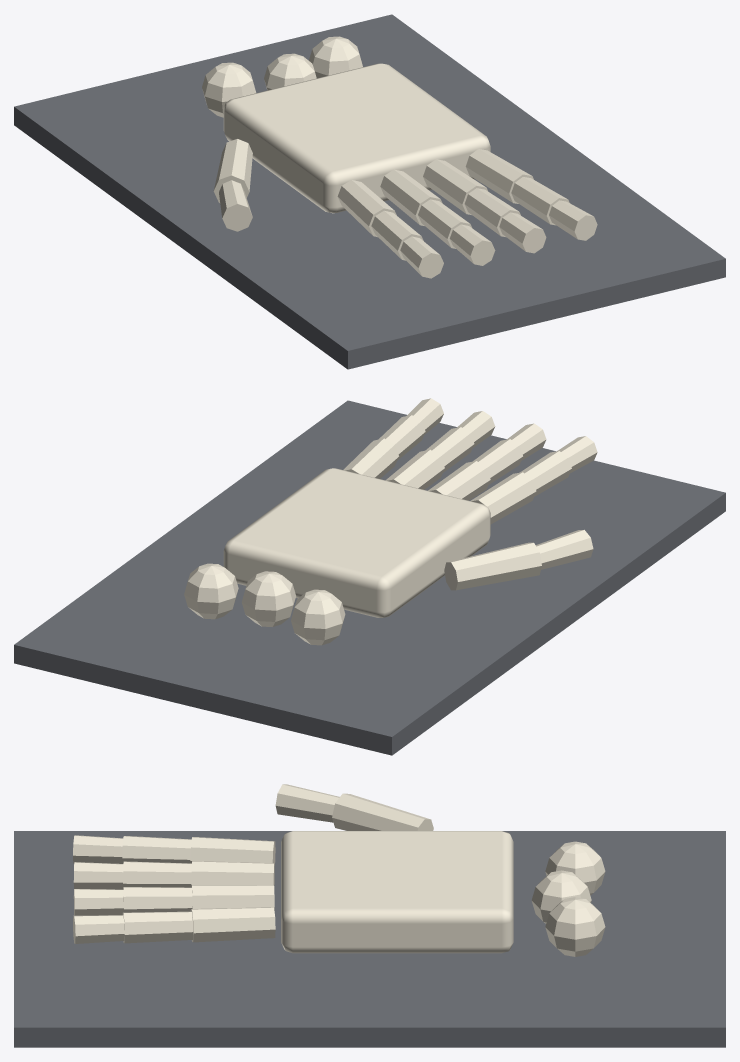
Rendered from human-anatomy-and-education-kit-hand-skeleton-2b88ce68__38945.glb.
3 renders of one model, top to bottom at view 1: azimuth 30°, elevation 25°; view 2: azimuth 150°, elevation 25°; view 3: azimuth 270°, elevation 25°, orthographic. The views are drawn at different scales.
Parts seen in each view (by area): view 1: hand-skeleton; view 2: hand-skeleton; view 3: hand-skeleton.
Boxes of the visible parts, left/top/right/bottom form: hand-skeleton: left=14, top=14, right=725, bottom=369; hand-skeleton: left=14, top=398, right=725, bottom=755; hand-skeleton: left=14, top=784, right=725, bottom=1047.
Size of the model in its own units: 0.17 by 0.033 by 0.26.
